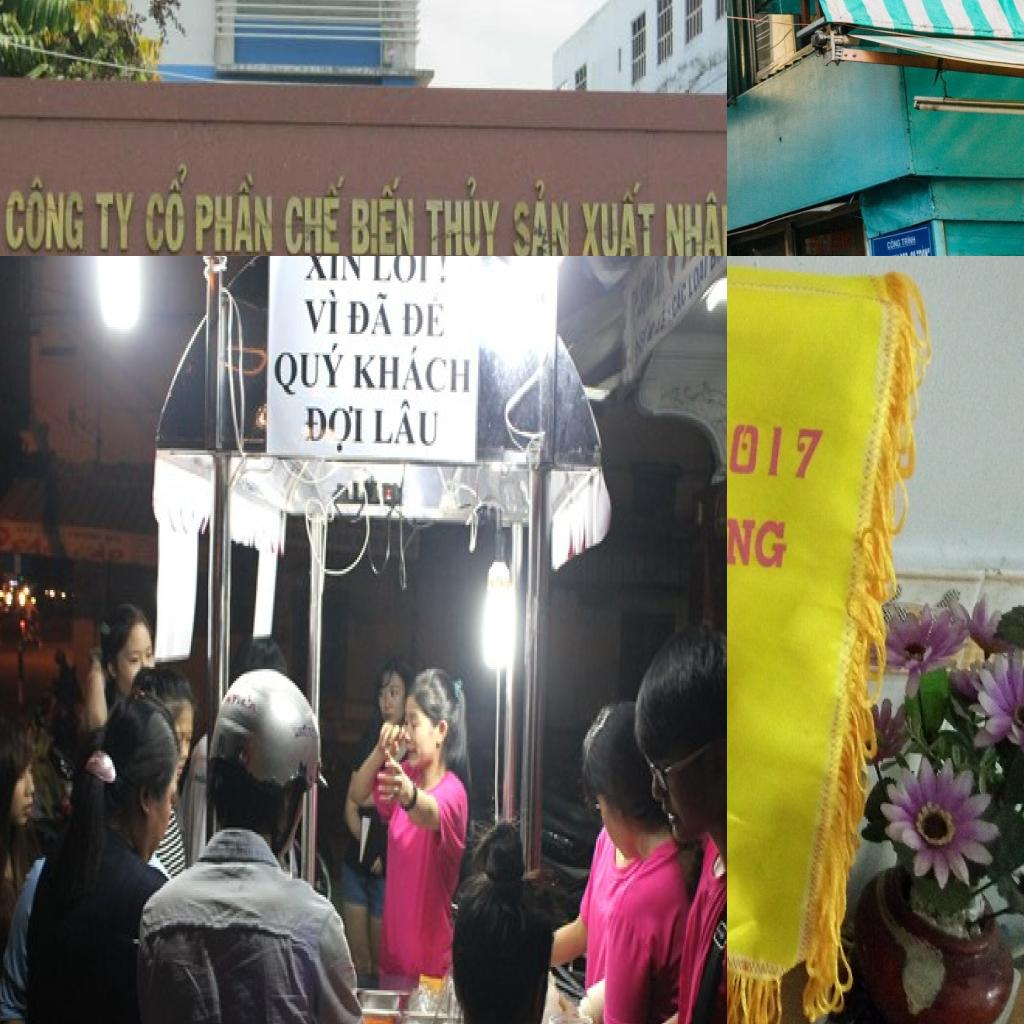text: (351, 343, 475, 399), (192, 175, 277, 255), (3, 177, 85, 255), (727, 423, 827, 485), (425, 175, 500, 256), (347, 170, 416, 256), (576, 183, 655, 256), (282, 174, 346, 256), (508, 178, 572, 256), (145, 161, 191, 256), (663, 188, 727, 256), (272, 341, 344, 401), (727, 511, 790, 572), (372, 399, 441, 453), (302, 402, 364, 458), (92, 189, 138, 255), (399, 294, 452, 341), (346, 290, 394, 341), (302, 256, 364, 287), (371, 256, 433, 287), (303, 288, 340, 338), (707, 256, 727, 278), (439, 256, 448, 287), (886, 237, 902, 251), (900, 234, 916, 247), (898, 251, 909, 256), (909, 250, 918, 256)
